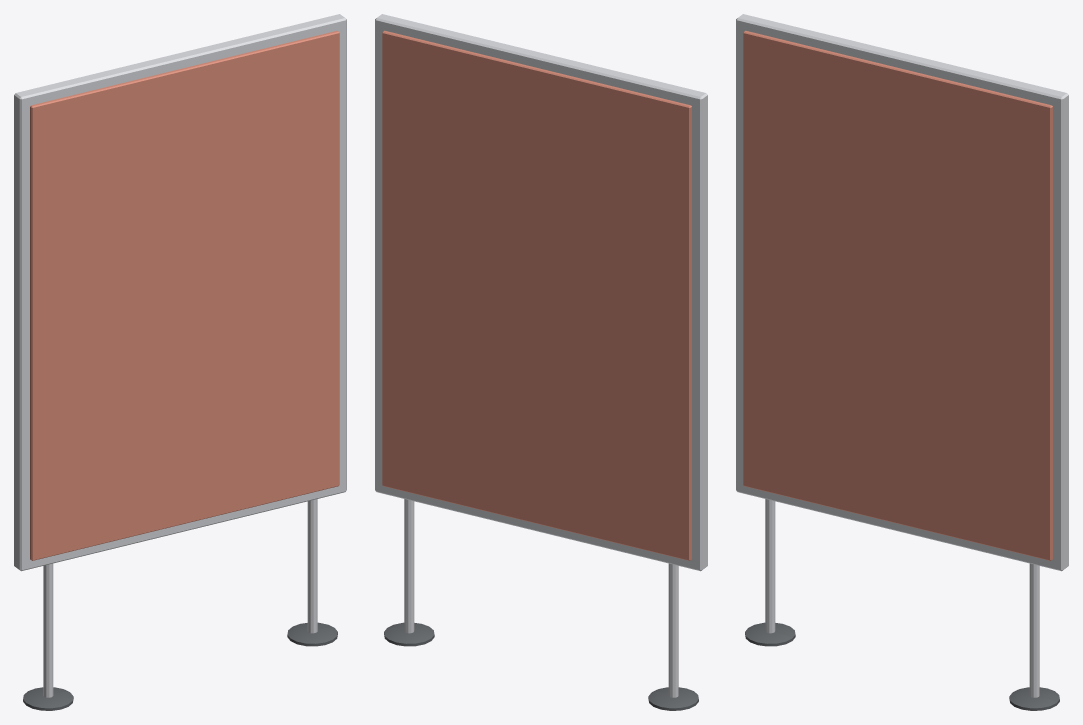
The picture shows the model from 3 angles, left to right: view 1: azimuth 30°, elevation 25°; view 2: azimuth 150°, elevation 25°; view 3: azimuth 330°, elevation 25°; orthographic projection.
Parts seen in each view (by area): view 1: window-vinyl-frame; view 2: window-vinyl-frame; view 3: window-vinyl-frame.
Part boxes in pixels (x1,y1,x2,y2): window-vinyl-frame: (14, 14, 346, 710); window-vinyl-frame: (375, 14, 707, 710); window-vinyl-frame: (736, 14, 1068, 710).
Bounding box in the file's own units: 1.04 × 1.86 × 0.14.
